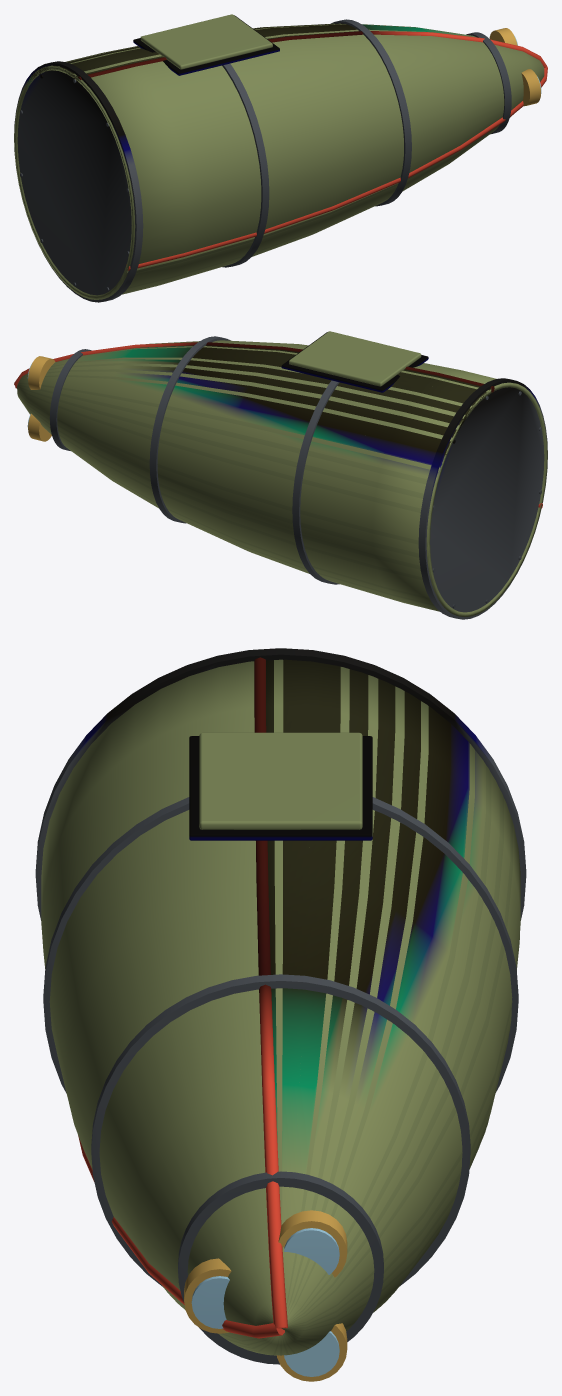
3 renders of one model, top to bottom at view 1: azimuth 30°, elevation 25°; view 2: azimuth 150°, elevation 25°; view 3: azimuth 270°, elevation 25°, orthographic. The views are drawn at different scales.
Visible parts, largest first — view 1: anim-shell, anim-shell-ring2, anim-cut, anim-hatch, anim-cut-edge115, anim-shell-ring60, anim-shell-ring130, anim-cut-edge365, cone.metal.4, cone.brass.0, anim-shell-ring185; view 2: anim-cut, anim-shell, anim-shell-ring2, anim-hatch, anim-shell-ring60, anim-shell-ring130, anim-cut-edge365, cone.brass.0, cone.metal.4, anim-shell-ring185; view 3: anim-shell, anim-cut, anim-hatch, anim-shell-ring130, anim-shell-ring2, anim-cut-edge365, anim-shell-ring60, anim-shell-ring185, cone.glass.1, cone.metal.4, cone.brass.0, anim-cut-edge115.
Boxes of the visible parts, x1=… form: anim-shell: x1=14, y1=23, x2=544, y2=299; anim-shell-ring2: x1=14, y1=61, x2=143, y2=302; anim-cut: x1=14, y1=23, x2=511, y2=299; anim-hatch: x1=140, y1=14, x2=272, y2=69; anim-cut-edge115: x1=126, y1=67, x2=547, y2=270; anim-shell-ring60: x1=222, y1=63, x2=269, y2=267; anim-shell-ring130: x1=330, y1=19, x2=411, y2=206; anim-cut-edge365: x1=78, y1=31, x2=547, y2=80; cone.metal.4: x1=133, y1=15, x2=279, y2=75; cone.brass.0: x1=489, y1=28, x2=540, y2=106; anim-shell-ring185: x1=466, y1=32, x2=511, y2=134; anim-cut: x1=17, y1=345, x2=538, y2=616; anim-shell: x1=17, y1=340, x2=547, y2=617; anim-shell-ring2: x1=418, y1=378, x2=547, y2=619; anim-hatch: x1=289, y1=331, x2=421, y2=386; anim-shell-ring60: x1=292, y1=380, x2=339, y2=584; anim-shell-ring130: x1=149, y1=336, x2=230, y2=523; anim-cut-edge365: x1=14, y1=342, x2=494, y2=392; cone.brass.0: x1=28, y1=356, x2=55, y2=441; cone.metal.4: x1=281, y1=332, x2=428, y2=392; anim-shell-ring185: x1=49, y1=349, x2=91, y2=450; anim-shell: x1=41, y1=659, x2=520, y2=1355; anim-cut: x1=162, y1=659, x2=520, y2=1355; anim-hatch: x1=199, y1=732, x2=362, y2=829; anim-shell-ring130: x1=91, y1=974, x2=470, y2=1287; anim-shell-ring2: x1=35, y1=648, x2=526, y2=920; anim-cut-edge365: x1=254, y1=657, x2=287, y2=1328; anim-shell-ring60: x1=43, y1=797, x2=518, y2=1093; anim-shell-ring185: x1=178, y1=1171, x2=383, y2=1364; cone.glass.1: x1=191, y1=1228, x2=339, y2=1376; cone.metal.4: x1=189, y1=736, x2=372, y2=840; cone.brass.0: x1=184, y1=1210, x2=347, y2=1381; anim-cut-edge115: x1=78, y1=1135, x2=284, y2=1338.
Bounding box in the file's own units: 2.14 × 0.962 × 0.962.
